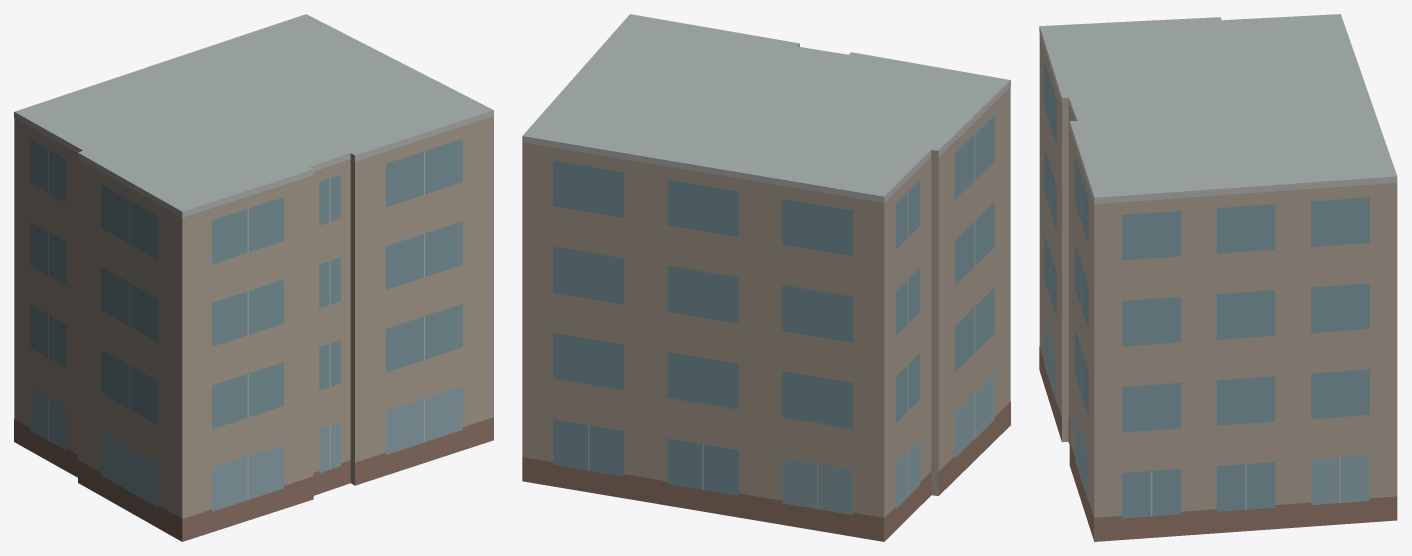
The model's file is survey-upis-33003087.glb.
3 views of the same model, side by side, from view 1: azimuth 30°, elevation 25°; view 2: azimuth 150°, elevation 25°; view 3: azimuth 270°, elevation 25° (orthographic). The views are drawn at different scales.
Parts seen in each view (by area): view 1: survey-upis-33003087.tmp; view 2: survey-upis-33003087.tmp; view 3: survey-upis-33003087.tmp.
Part boxes in pixels (box(x1,y1,x2,y2)): survey-upis-33003087.tmp: box(14, 14, 493, 541); survey-upis-33003087.tmp: box(522, 14, 1010, 541); survey-upis-33003087.tmp: box(1039, 14, 1397, 541).
Bounding box in the file's own units: 15.14 × 13.2 × 12.45.
